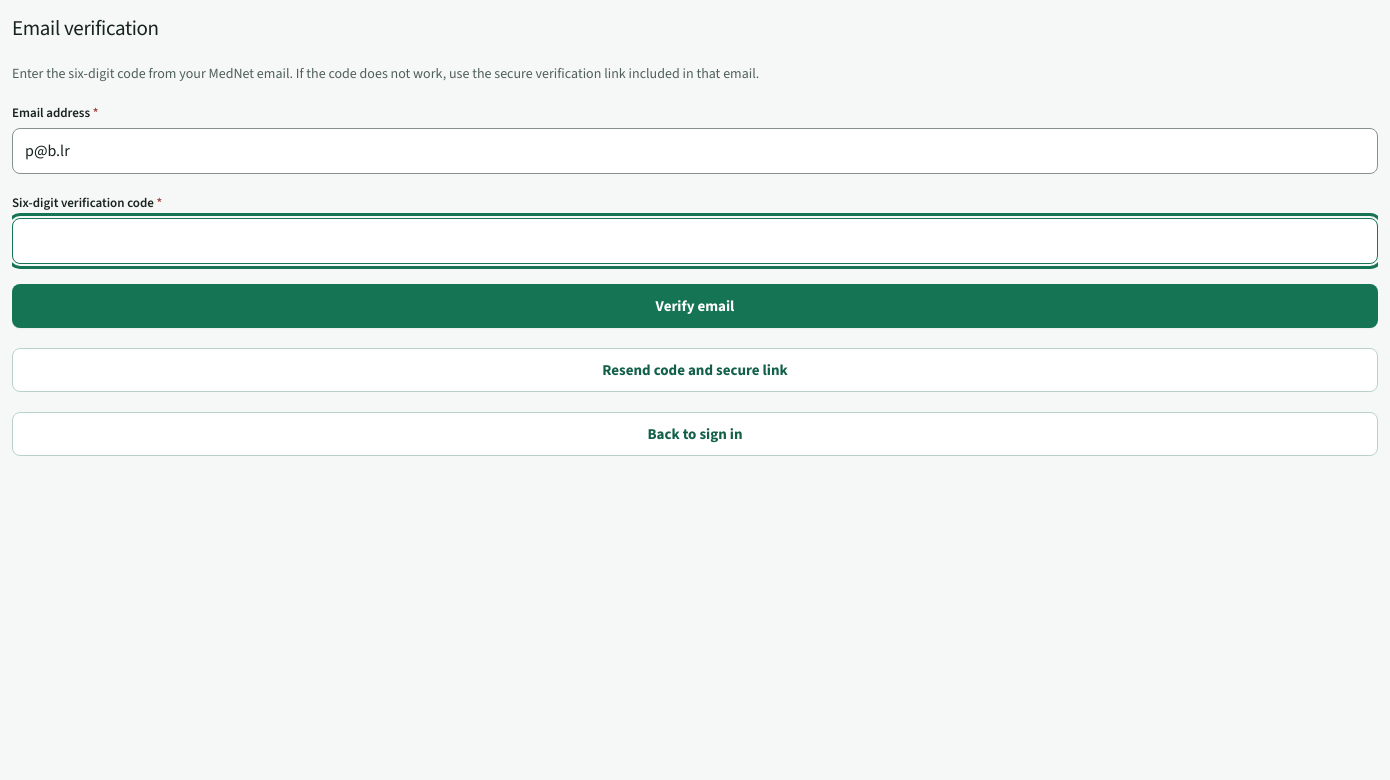
Test: VerifyEmailPanel › resends a fresh verification code and secure link from the code-entry page
Click the button "Resend code and secure link": (695,370) x1=12 y1=348 x2=1378 y2=392
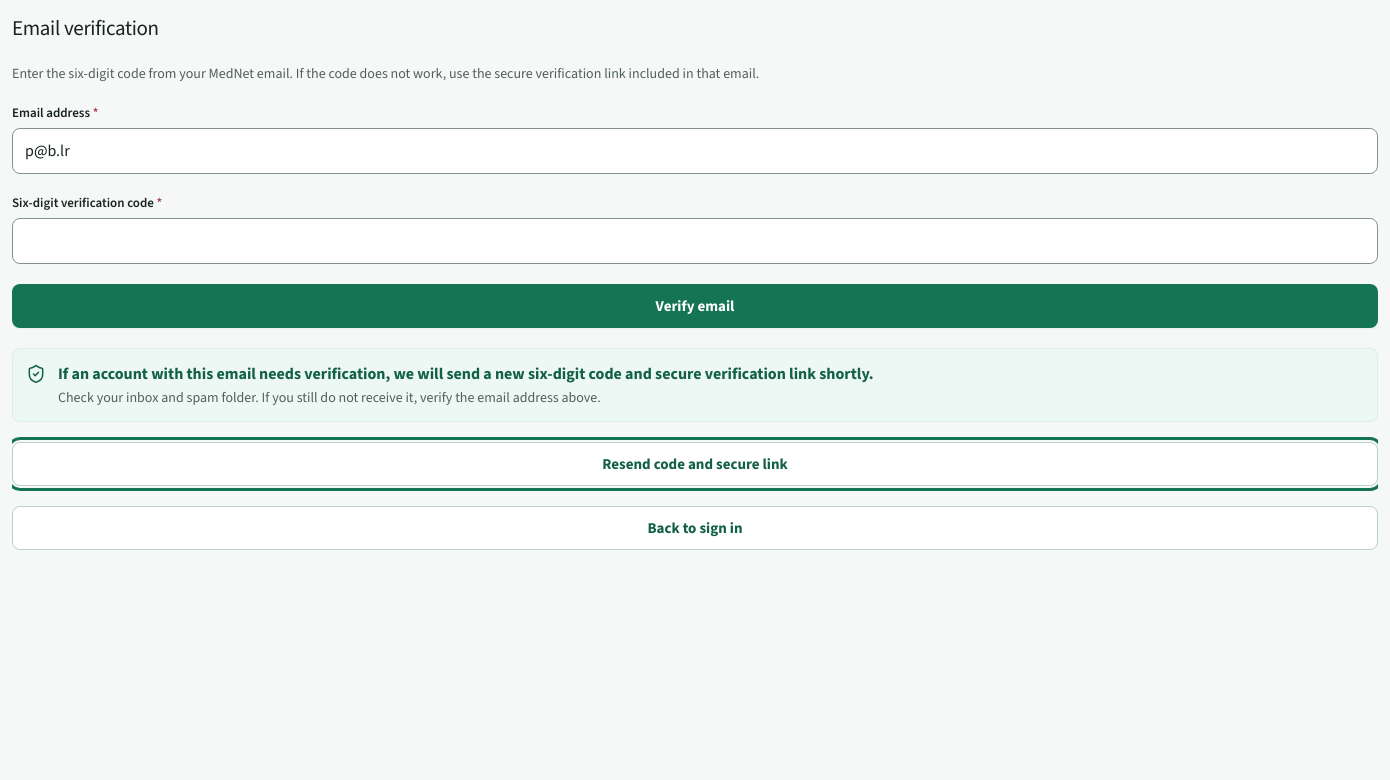
Now the message shows "new six-digit code and secure verification link", box x1=58 y1=363 x2=874 y2=384
